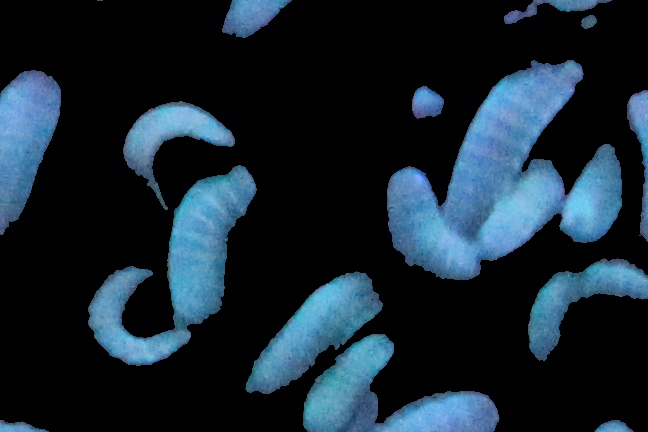larvae: (444, 66, 588, 233), (246, 271, 395, 396), (379, 164, 502, 291), (119, 97, 242, 215), (166, 167, 256, 325), (525, 259, 648, 362), (1, 71, 62, 248), (88, 264, 190, 364), (294, 334, 391, 425), (482, 160, 568, 257), (559, 146, 635, 246), (375, 378, 500, 432)
